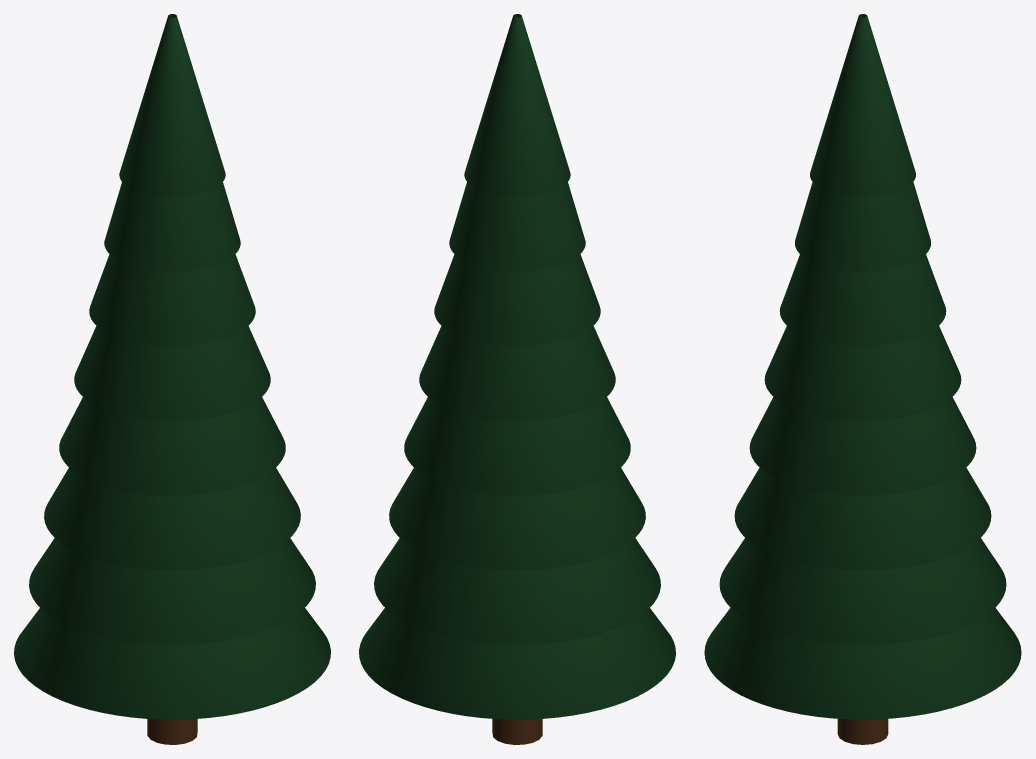
The model's file is Tuja_oszlopos.obj.
3 views of the same model, side by side, from view 1: azimuth 30°, elevation 25°; view 2: azimuth 150°, elevation 25°; view 3: azimuth 270°, elevation 25° (orthographic).
Size of the model in its own units: 0.88 by 2.2 by 0.88.
